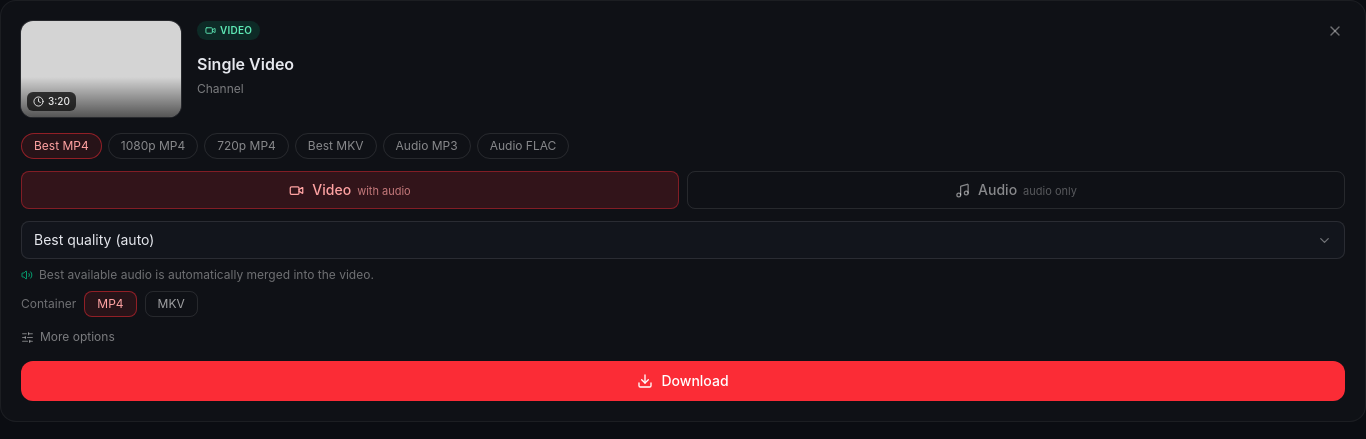
MediaCard › hides the bitrate selector for lossless formats
Click the button "Audio audio only".
click(1016, 190)  # box [687, 171, 1345, 209]
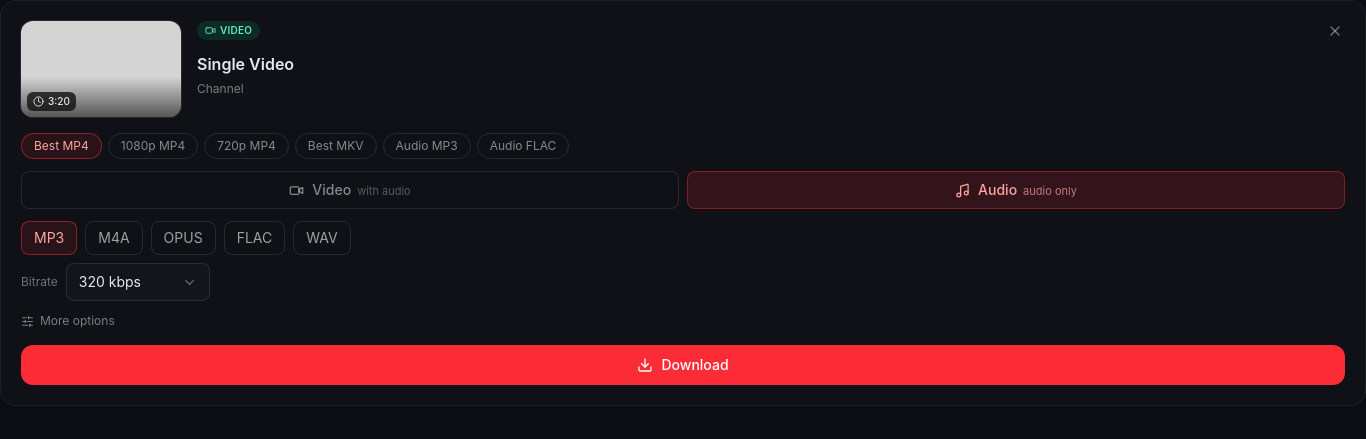
Click the button "flac".
click(254, 238)  # box [224, 221, 285, 255]
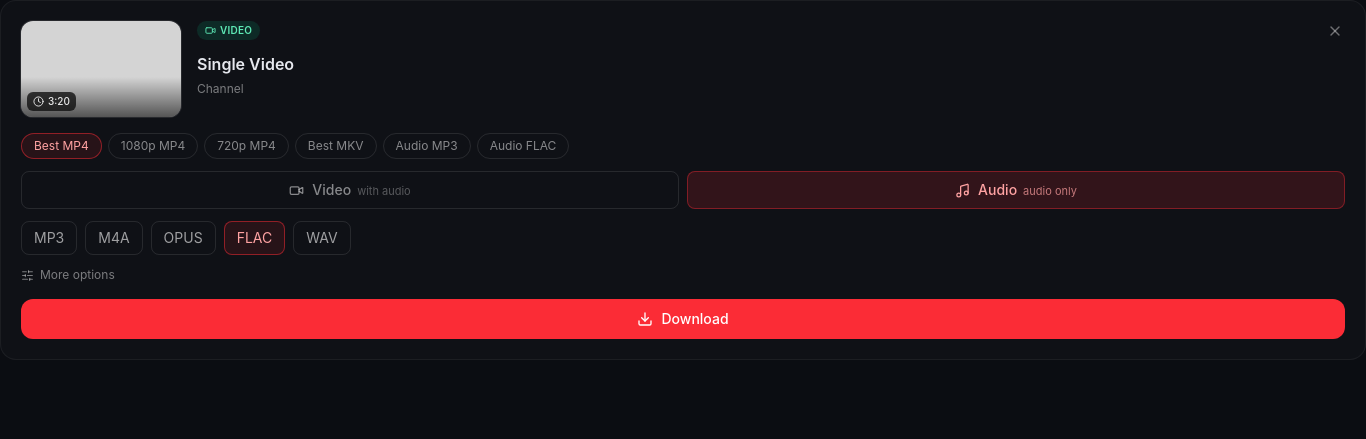
Result: the text "Bitrate" is gone
